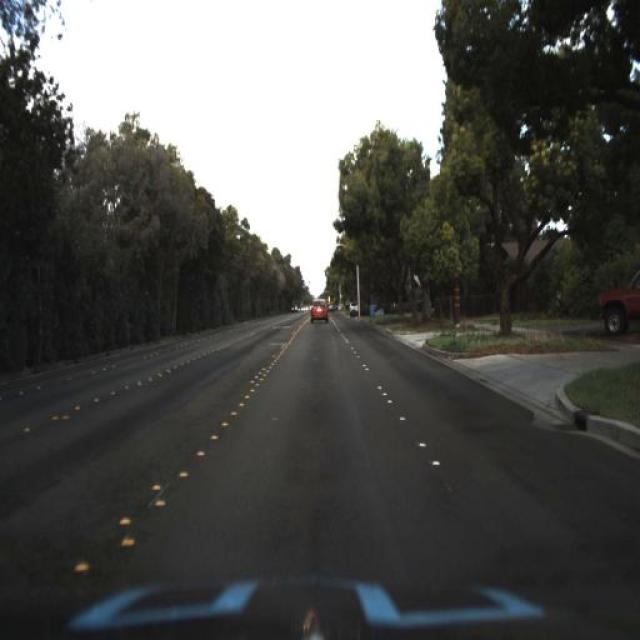car: (597, 262, 640, 346), (305, 296, 331, 326)
